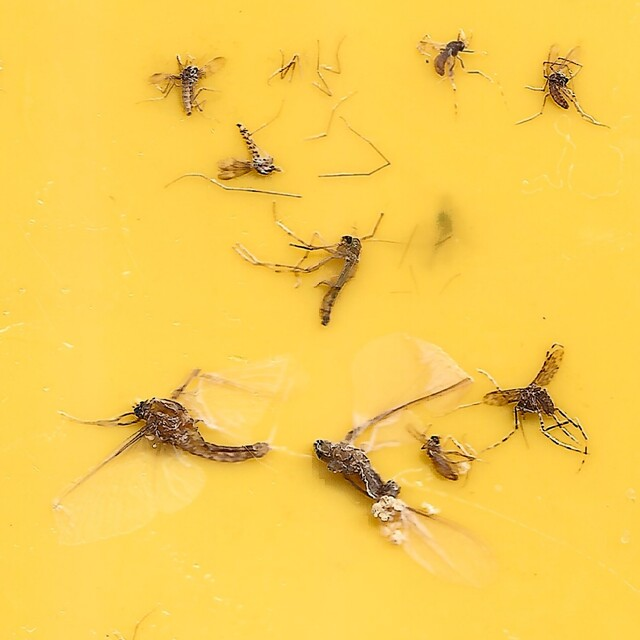Ephemeroptera: (310, 338, 498, 588), (49, 349, 272, 542)
Nematocera: (234, 211, 390, 330), (488, 345, 591, 463), (144, 52, 224, 119), (219, 121, 282, 184), (417, 426, 476, 485)
